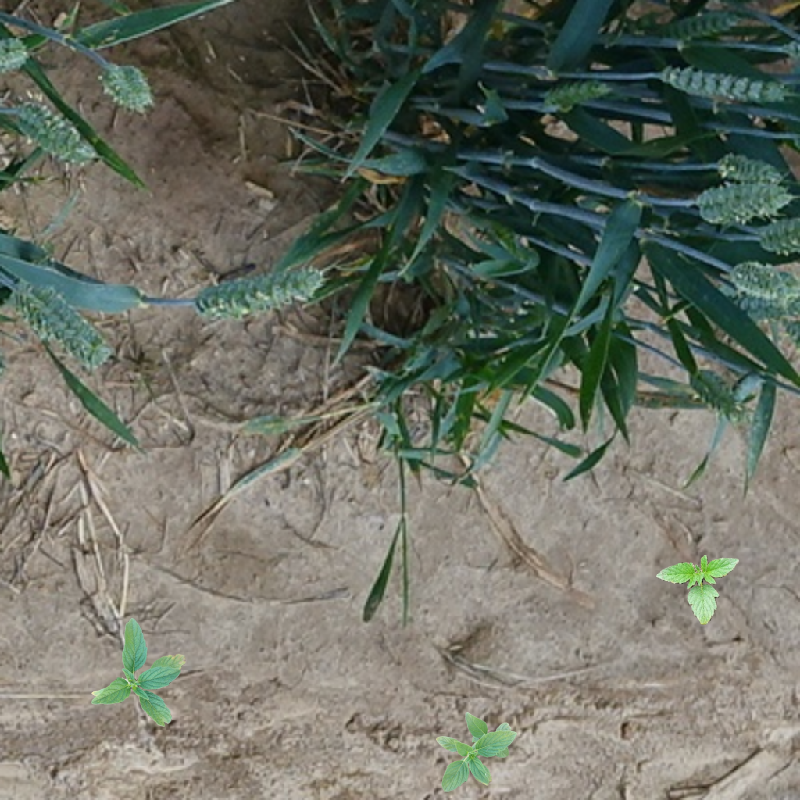spikelet: (1, 275, 121, 374), (662, 59, 787, 108), (195, 265, 319, 314), (11, 96, 84, 158), (698, 178, 789, 226), (685, 364, 749, 425), (654, 7, 741, 45), (731, 261, 792, 307), (539, 74, 610, 112), (715, 151, 782, 190), (97, 64, 154, 108), (760, 289, 800, 340), (752, 221, 800, 257), (1, 28, 30, 84)
weed: (91, 618, 186, 727), (436, 712, 517, 792), (656, 555, 739, 625)
